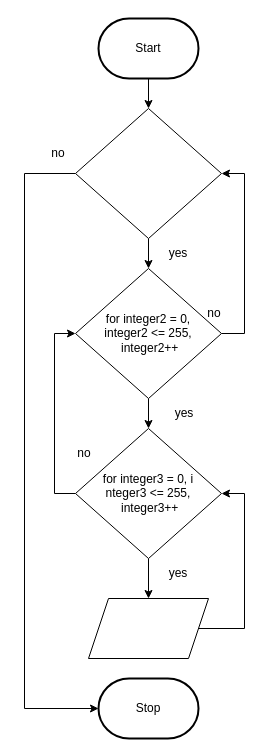
This 270x756 diagram has some shape labels left out. The shapes that lost their labels are listed below. From the top down, each one's centre as x and y in pixels, then its label:
the point at 148,173: for integer1 = 0, integer1 <= 255, integer1++
the point at 148,628: print integer1, integer2, integer3
